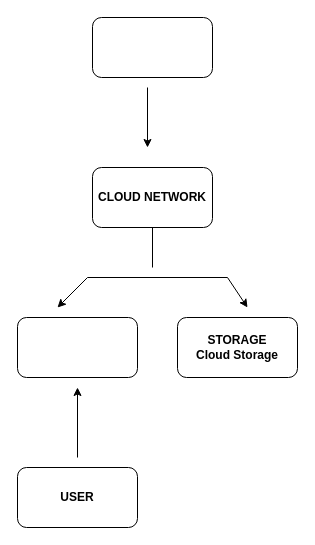
Some shapes in this 315 by 545 pixel diagram are drawn without their labels. Here are the shapes that lost their labels. From the top down, the centre of each, then its label:
At (152,47): "INTERNET".
At (77,347): "COMPUTE Linux Server".
